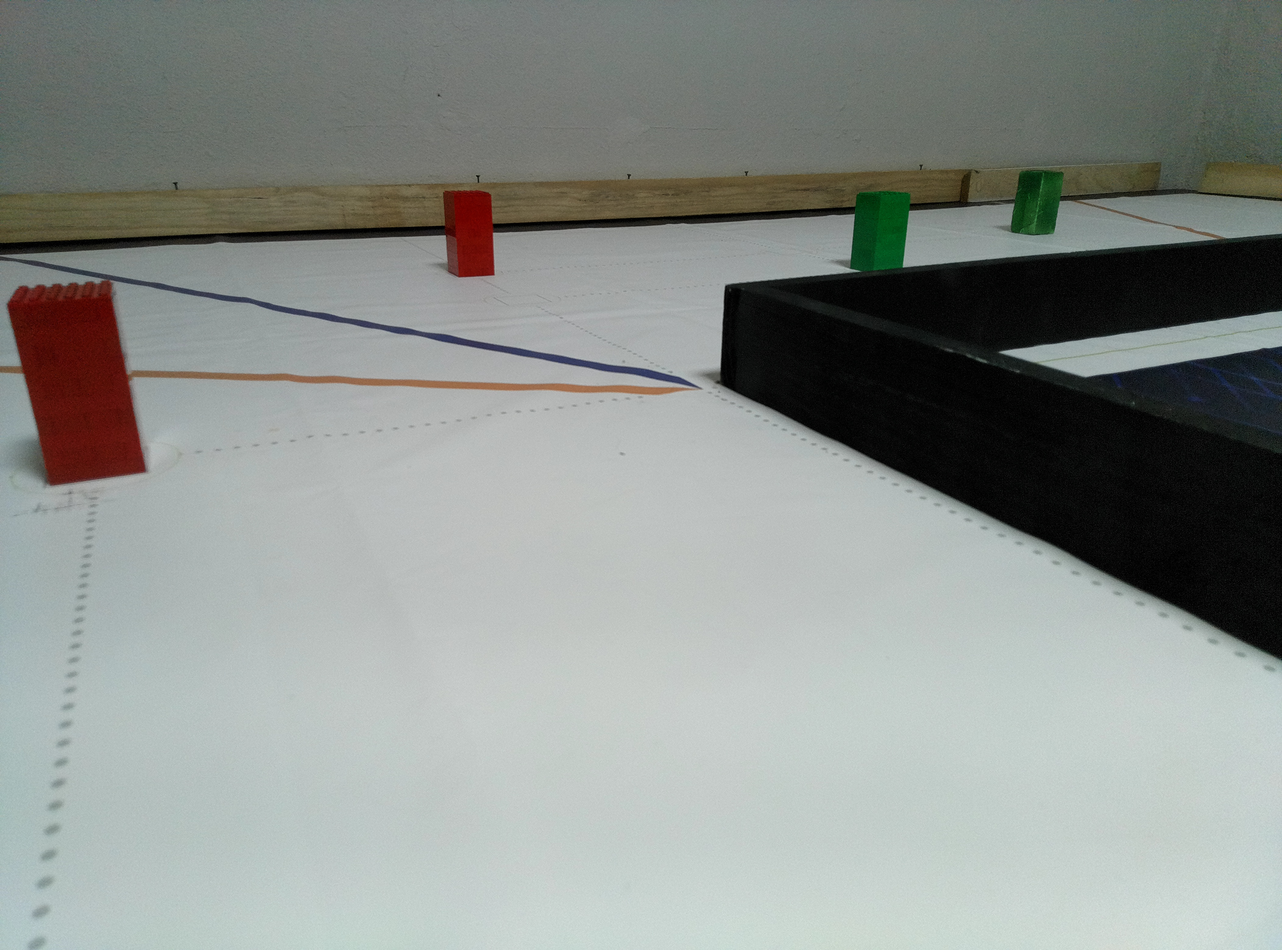greenbox: (849, 190, 911, 270), (1011, 169, 1065, 236)
redbox: (6, 278, 153, 487), (441, 189, 498, 277)
